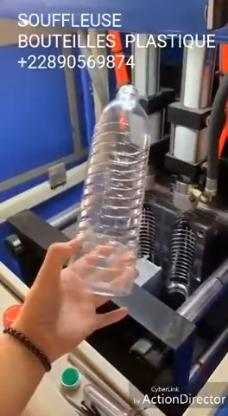Plastic Bottle: (64, 81, 152, 296)
